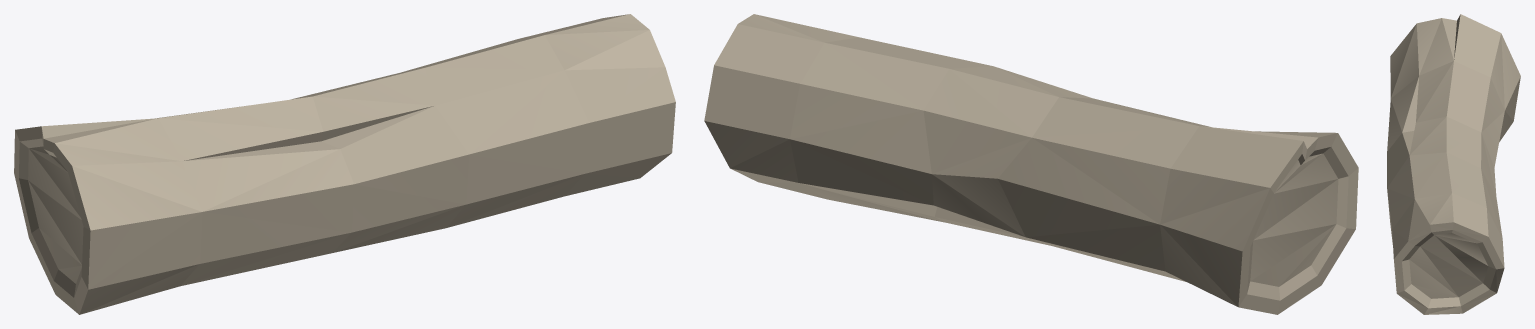
The model's file is cc0-log.glb.
The picture shows the model from 3 angles, left to right: view 1: azimuth 30°, elevation 25°; view 2: azimuth 150°, elevation 25°; view 3: azimuth 270°, elevation 25°; orthographic projection. The views are drawn at different scales.
Visible parts, largest first — view 1: cc0-log; view 2: cc0-log; view 3: cc0-log.
Part boxes in pixels (left/top/right/bottom): cc0-log: left=14, top=14, right=675, bottom=314; cc0-log: left=704, top=14, right=1358, bottom=314; cc0-log: left=1387, top=14, right=1520, bottom=314.
Bounding box in the file's own units: 2.2 × 0.6384 × 0.6473.
